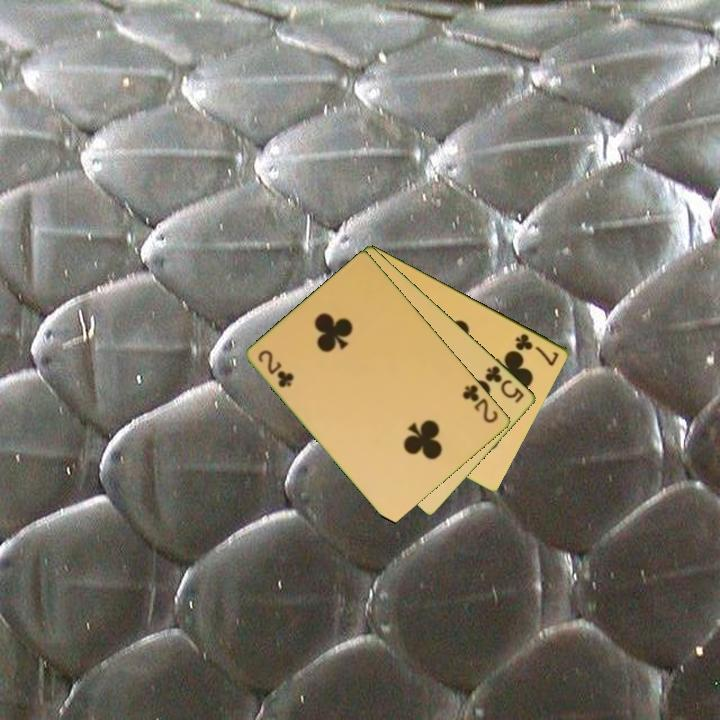2c: (459, 381, 501, 426), (255, 346, 297, 391)
5c: (482, 362, 527, 406)
7c: (512, 330, 562, 369)
